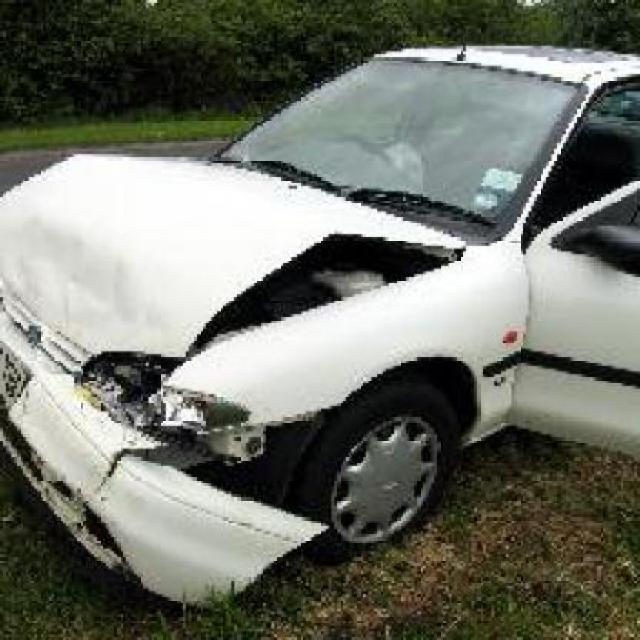damaged-front-bumper: (8, 346, 292, 588)
damaged-hood: (0, 148, 446, 354)
